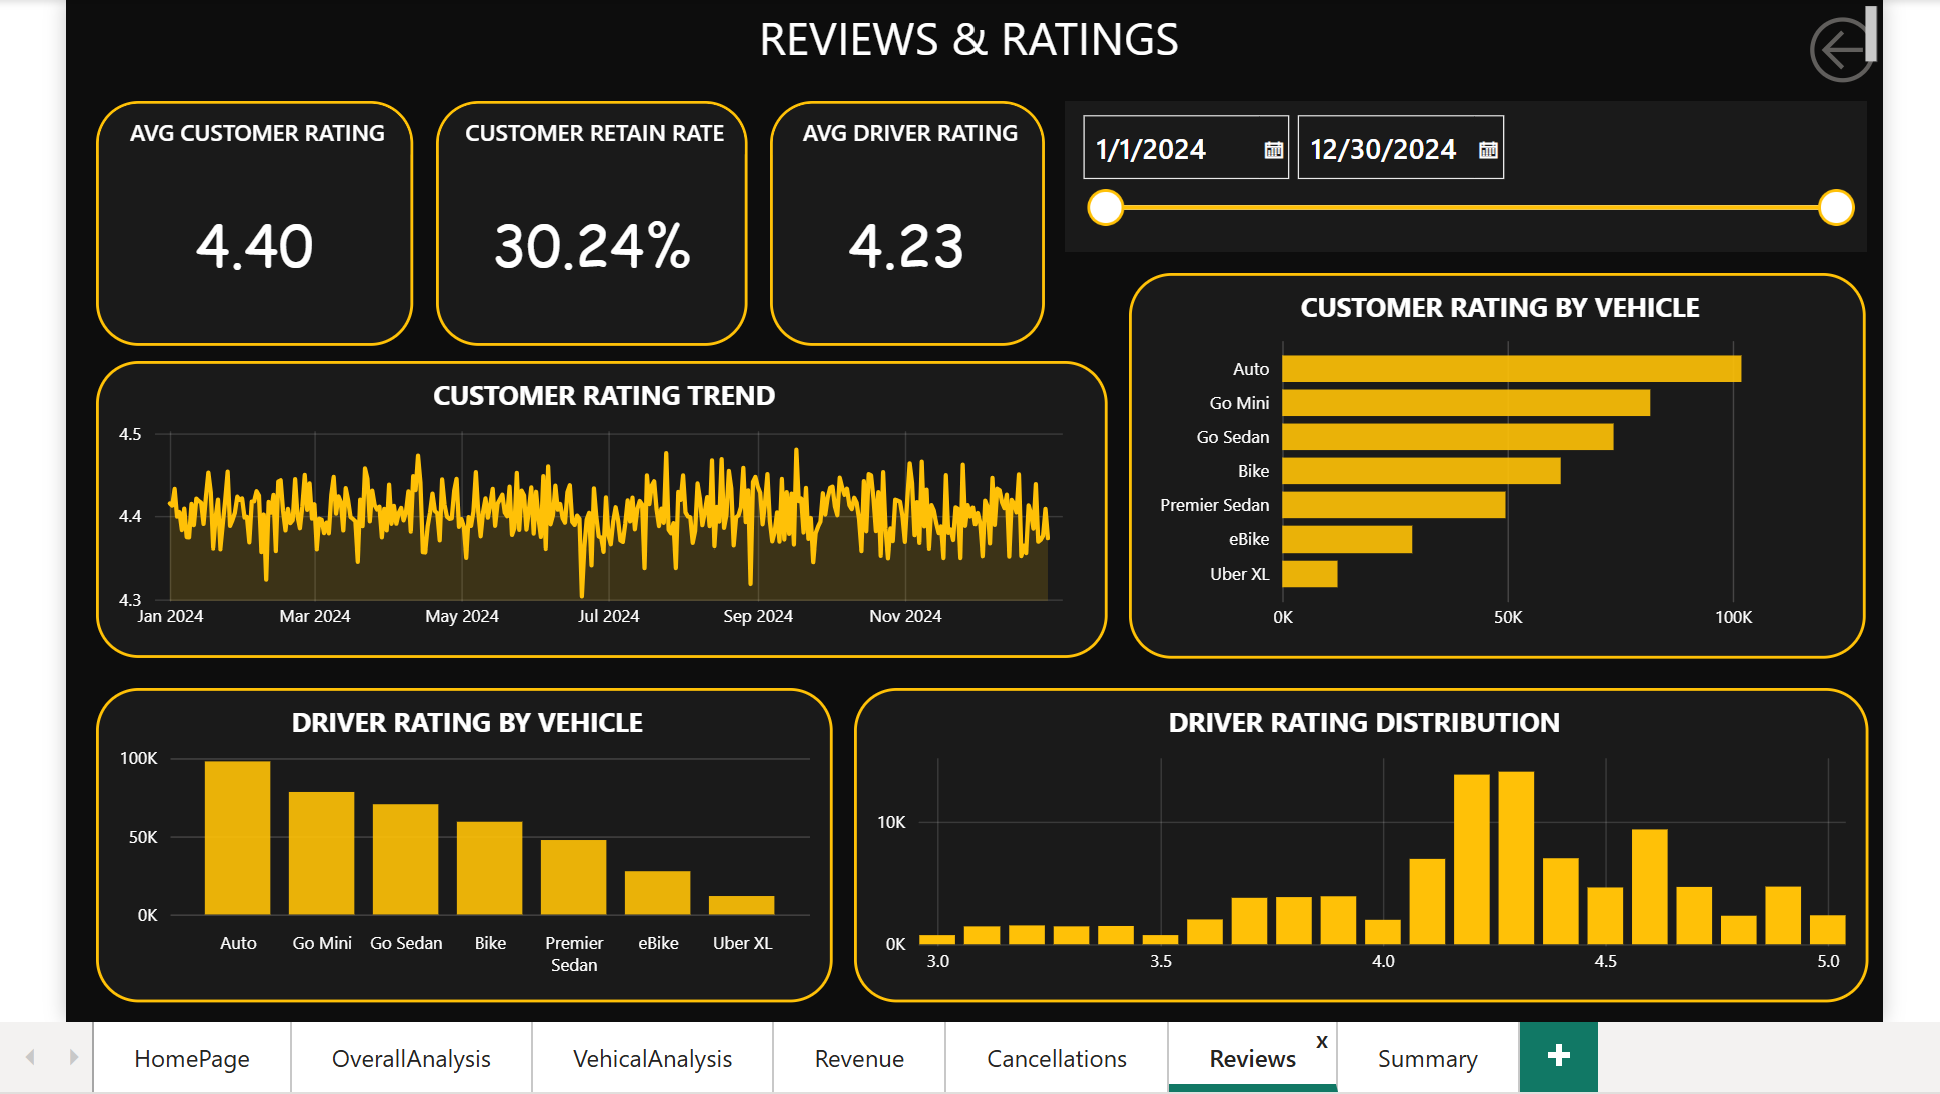

The dashboard page shown, as its layout file describes it:
{"tool":"powerbi","page":{"name":"Reviews","canvas":[1280,720],"ordinal":5},"visuals":[{"type":"actionButton","box":[1221.3,0,58.7,72],"z":0},{"type":"cardVisual","title":"AVG CUSTOMER RATING","fields":{"Data":["Avg(rideBookings.Customer Rating)"]},"box":[20.8,72,223.4,172.3],"z":1000},{"type":"cardVisual","title":"CUSTOMER RETAIN RATE ","fields":{"Data":["rideBookings.Customer Retain Rate"]},"box":[261.3,72,219.6,172.3],"z":2000},{"type":"cardVisual","title":"AVG DRIVER RATING","fields":{"Data":["Avg(rideBookings.Driver Ratings)"]},"box":[496.1,72,193.1,172.3],"z":3000},{"type":"textbox","box":[0,0,1280,58.7],"z":4000},{"type":"slicer","fields":{"Values":["rideBookings.Date"]},"box":[702.5,72,564.3,106],"z":5000},{"type":"clusteredBarChart","title":"CUSTOMER RATING BY VEHICLE","fields":{"Category":["rideBookings.Vehicle Type"],"Y":["Sum(rideBookings.Customer Rating)"]},"box":[747.9,193.1,518.8,270.8],"z":6000},{"type":"clusteredColumnChart","title":"DRIVER RATING BY VEHICLE","fields":{"Category":["rideBookings.Vehicle Type"],"Y":["Sum(rideBookings.Driver Ratings)"]},"box":[20.8,484.7,518.8,221.5],"z":7000},{"type":"lineChart","title":"CUSTOMER RATING TREND","fields":{"Y":["Avg(rideBookings.Customer Rating)"],"Category":["rideBookings.Date"]},"box":[20.8,255.6,712,208.3],"z":8000},{"type":"clusteredColumnChart","title":"DRIVER RATING DISTRIBUTION","fields":{"Category":["rideBookings.Driver Ratings"],"Y":["CountNonNull(rideBookings.Driver Ratings)"]},"box":[554.8,484.7,713.8,221.5],"z":9000}]}

Visuals, with their boxes on the page's 1280x720 design canvas (x1, y1, x2, y2). These are canvas units, not pixel positions in the 1940x1094 screenshot, which may show the page scaled, cropped or inside an application window:
actionButton: locate(1221, 0, 1280, 72)
"AVG CUSTOMER RATING" cardVisual: locate(21, 72, 244, 244)
"CUSTOMER RETAIN RATE " cardVisual: locate(261, 72, 481, 244)
"AVG DRIVER RATING" cardVisual: locate(496, 72, 689, 244)
textbox: locate(0, 0, 1280, 59)
slicer - rideBookings.Date: locate(702, 72, 1267, 178)
"CUSTOMER RATING BY VEHICLE" clusteredBarChart: locate(748, 193, 1267, 464)
"DRIVER RATING BY VEHICLE" clusteredColumnChart: locate(21, 485, 540, 706)
"CUSTOMER RATING TREND" lineChart: locate(21, 256, 733, 464)
"DRIVER RATING DISTRIBUTION" clusteredColumnChart: locate(555, 485, 1269, 706)
